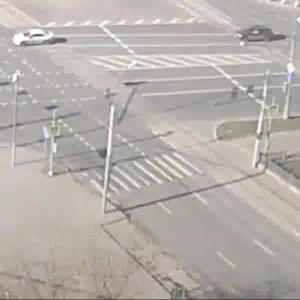car: (11, 29, 60, 47), (239, 26, 281, 43)
